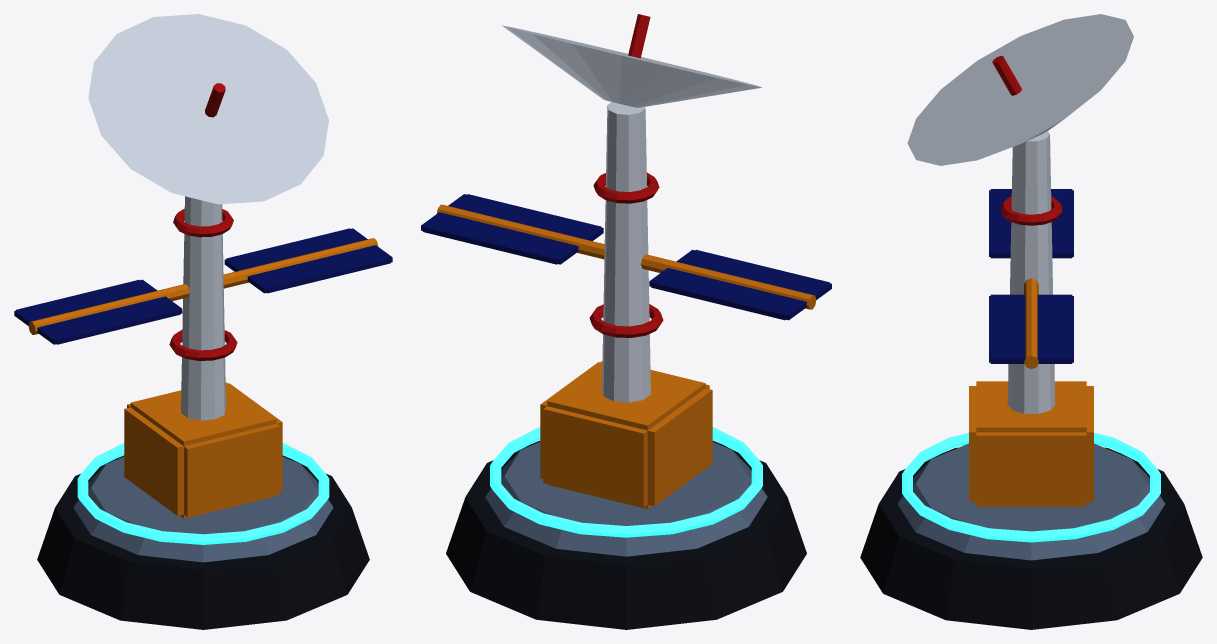
The model's file is moon_comm_tower.glb.
3 renders of one model, left to right at view 1: azimuth 30°, elevation 25°; view 2: azimuth 150°, elevation 25°; view 3: azimuth 270°, elevation 25°, orthographic. The views are drawn at different scales.
Parts seen in each view (by area): view 1: MoonCommTowerBody, SpinRadar, SolarWingSpin; view 2: MoonCommTowerBody, SolarWingSpin, SpinRadar; view 3: MoonCommTowerBody, SpinRadar, SolarWingSpin.
Part boxes in pixels (bbox=[...]): MoonCommTowerBody: bbox=[37, 196, 369, 629]; SpinRadar: bbox=[88, 14, 328, 204]; SolarWingSpin: bbox=[14, 228, 392, 344]; MoonCommTowerBody: bbox=[446, 102, 806, 629]; SolarWingSpin: bbox=[421, 194, 831, 320]; SpinRadar: bbox=[502, 14, 761, 107]; MoonCommTowerBody: bbox=[860, 131, 1202, 629]; SpinRadar: bbox=[907, 14, 1133, 165]; SolarWingSpin: bbox=[989, 189, 1073, 368].
Size of the model in its own units: 4.4 by 6.21 by 3.7.
